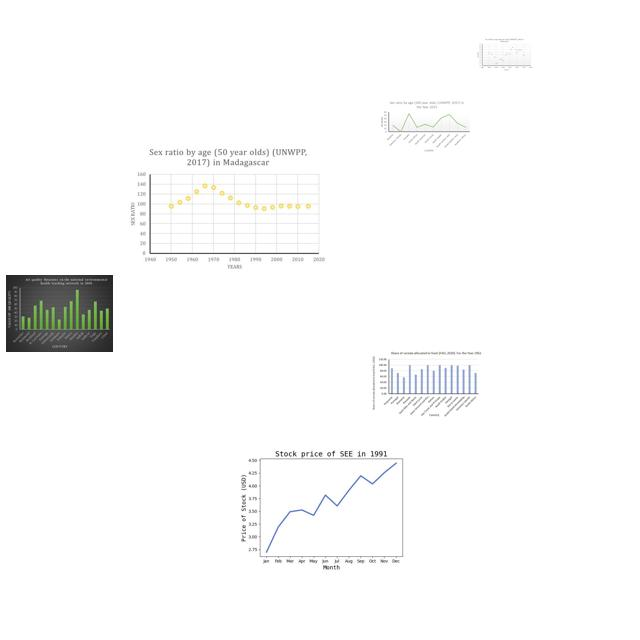Graph: (126, 146, 328, 272), (237, 438, 421, 576), (6, 275, 113, 352), (369, 351, 484, 418), (379, 99, 471, 153), (476, 37, 533, 71)
